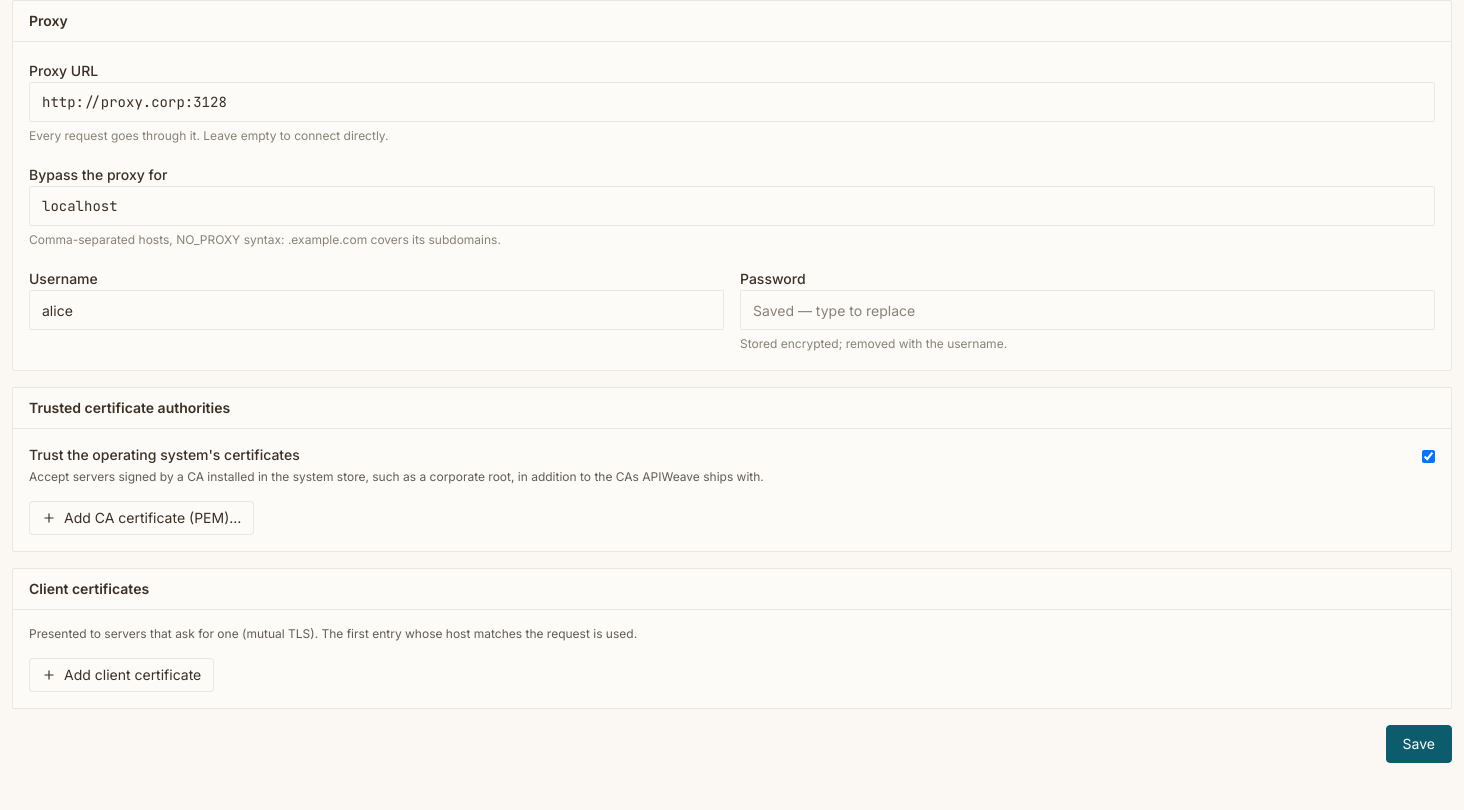
NetworkSettingsPanel › sends a typed password and shows why a save was refused
Type "hunter2" into the password field with placeholder "Saved — type to replace". click: (1088,310)
box: [740,290,1435,330]
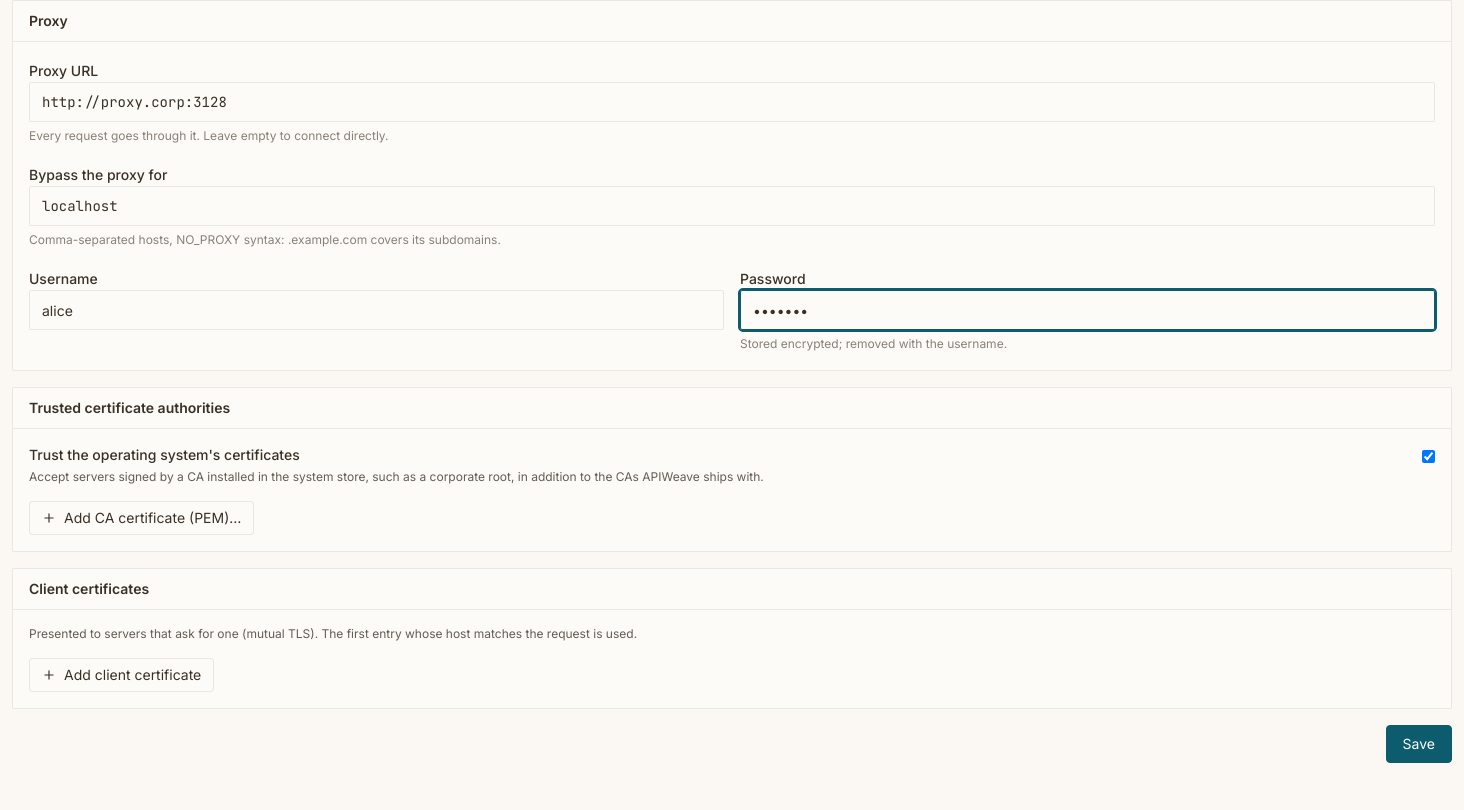
Click the button "Save". click: (1419,744)
box: [1386,725,1452,763]
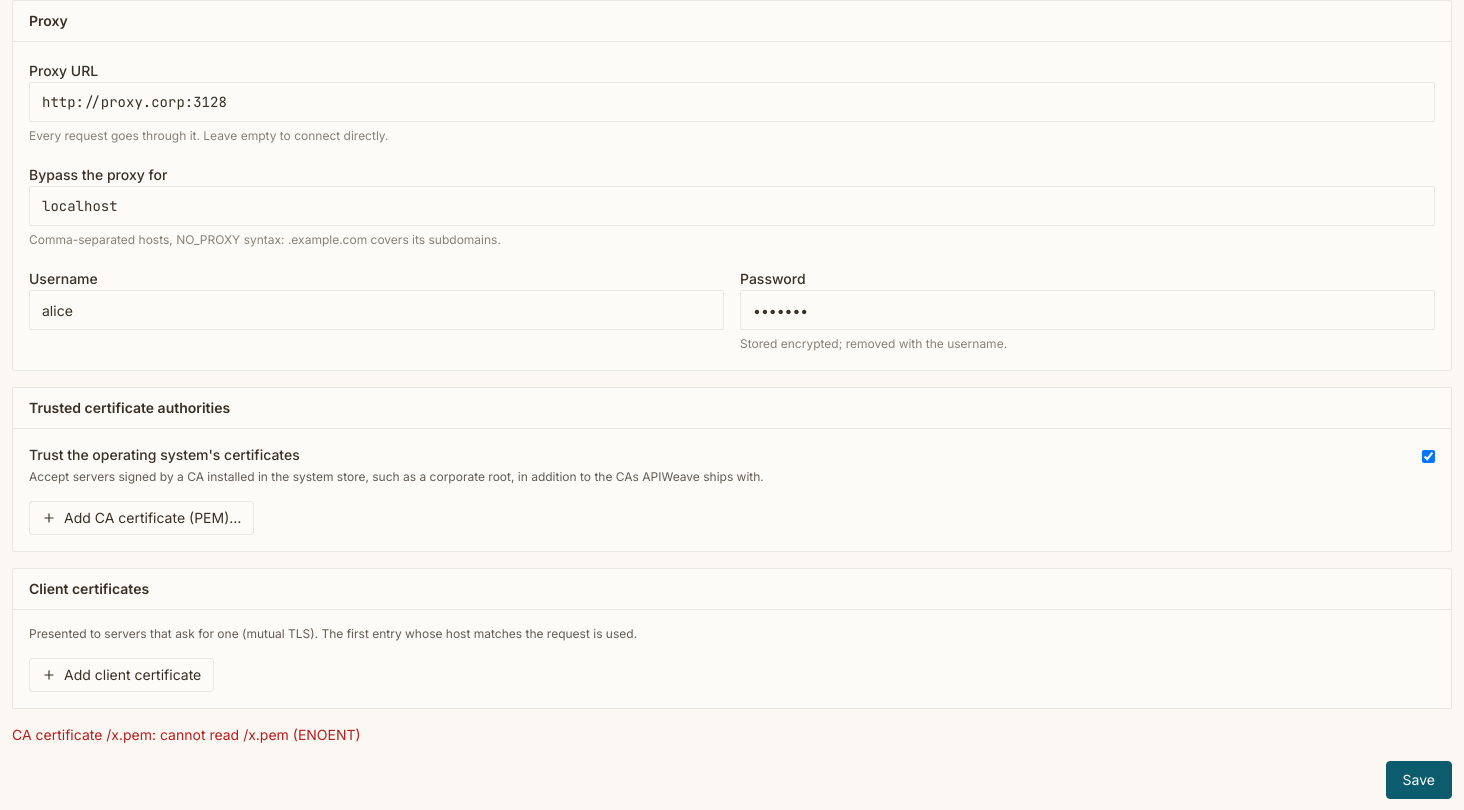
Expected: the message shows "cannot read /x.pem", [12,726,361,743]
